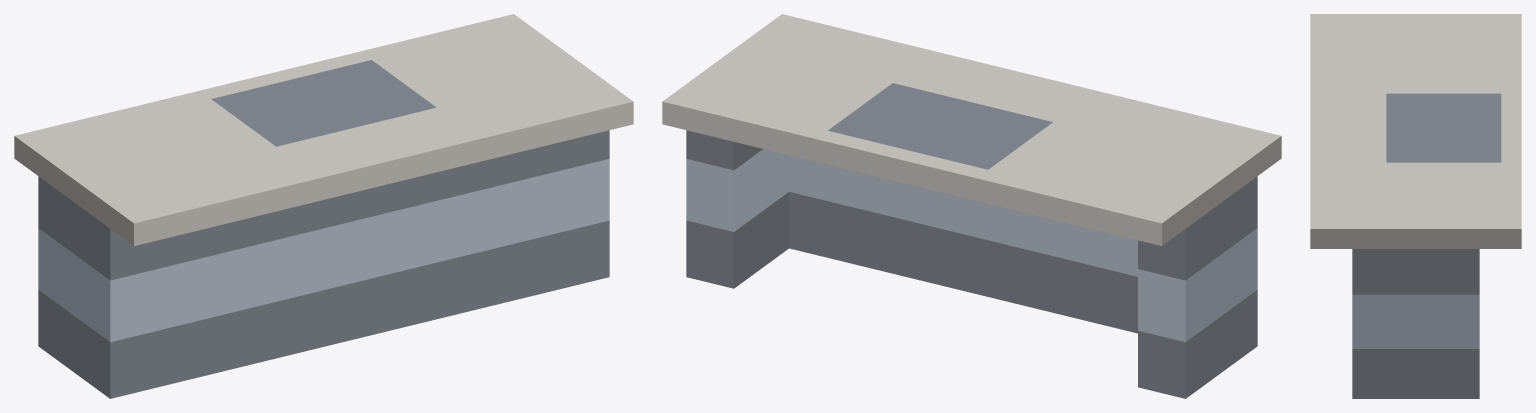
Rendered from Counter3.glb.
The picture shows the model from 3 angles, left to right: view 1: azimuth 30°, elevation 25°; view 2: azimuth 150°, elevation 25°; view 3: azimuth 270°, elevation 25°; orthographic projection. The views are drawn at different scales.
Visible parts, largest first — view 1: SI_Prop_Counter_03; view 2: SI_Prop_Counter_03; view 3: SI_Prop_Counter_03.
Part boxes in pixels (x1,y1,x2,y2): SI_Prop_Counter_03: (14, 14, 633, 398); SI_Prop_Counter_03: (662, 14, 1281, 398); SI_Prop_Counter_03: (1310, 14, 1521, 398).
Size of the model in its own units: 0.04 by 0.0148 by 0.0166.
Materials: 1 (1 with a texture image).
